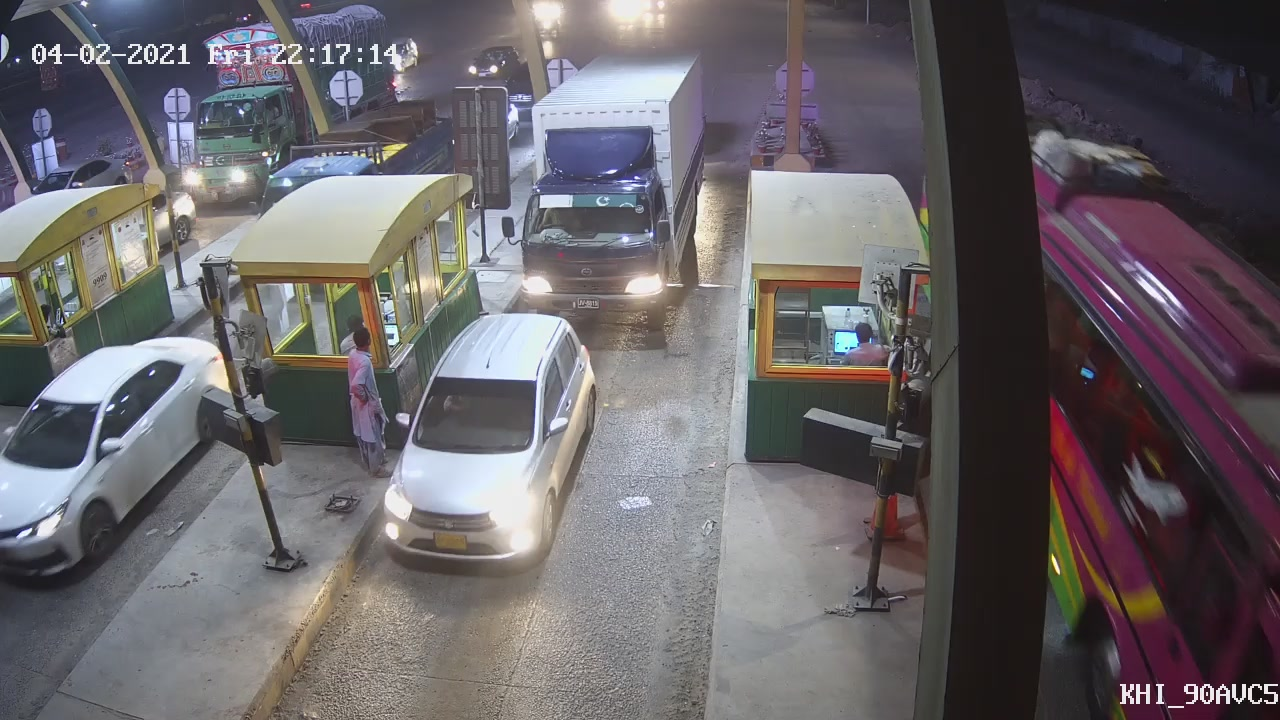F1: (377, 312, 604, 575)
F5: (505, 63, 716, 323)
